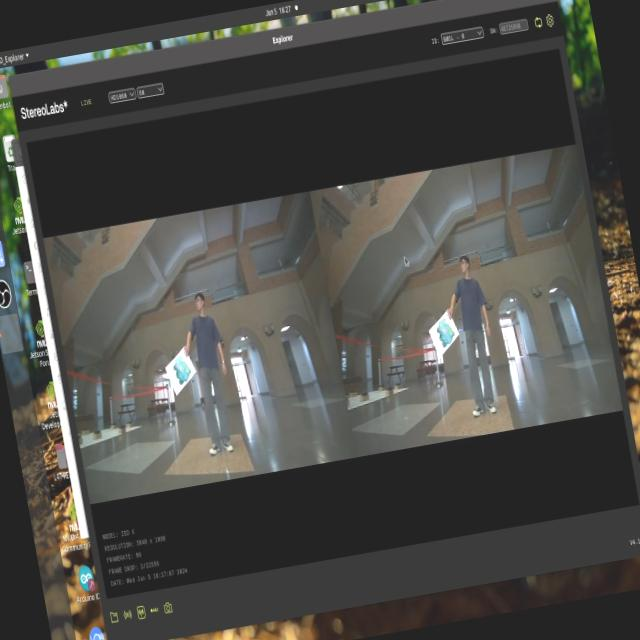green: (422, 307, 463, 362), (161, 358, 200, 394)
